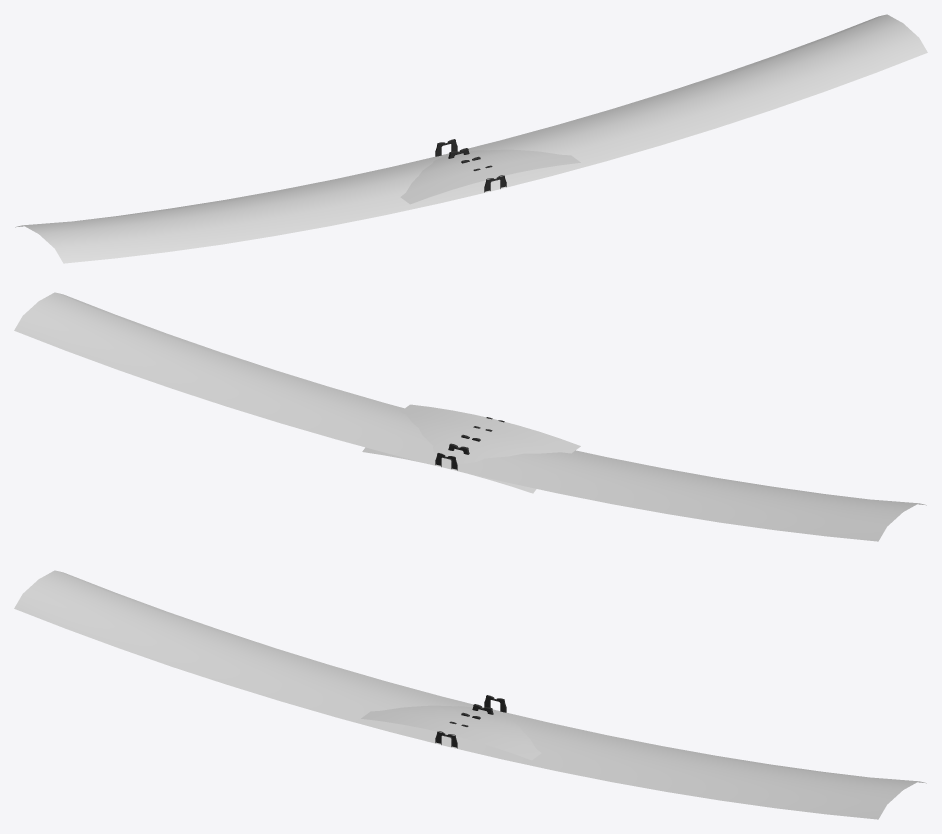
File: flat_to_flat_bridge.FBX
3 views of the same model, one above another, from view 1: azimuth 30°, elevation 25°; view 2: azimuth 150°, elevation 25°; view 3: azimuth 330°, elevation 25° (orthographic).
Visible parts, largest first — view 1: Plane025, Plane026, Object013; view 2: Plane025, Plane026; view 3: Plane025, Plane026, Object013.
Boxes of the visible parts, left/top/right/bottom form: Plane025: left=15, top=14, right=927, bottom=263; Plane026: left=400, top=149, right=580, bottom=204; Object013: left=435, top=139, right=506, bottom=192; Plane025: left=14, top=292, right=926, bottom=541; Plane026: left=362, top=404, right=580, bottom=493; Plane025: left=14, top=570, right=926, bottom=819; Plane026: left=361, top=705, right=541, bottom=760; Object013: left=435, top=695, right=506, bottom=748.
Size of the model in its own units: 128985 by 6988 by 12865.
